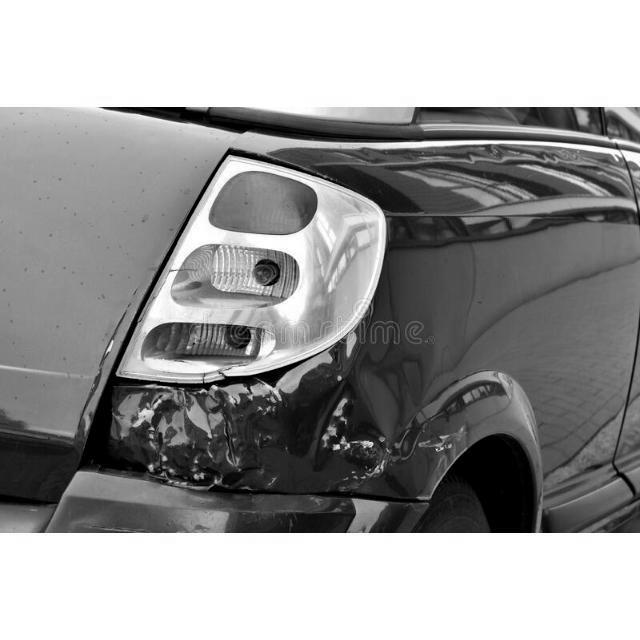Taillight-Damage: (104, 130, 397, 392)
quaterpanel-dent: (102, 378, 623, 494)
